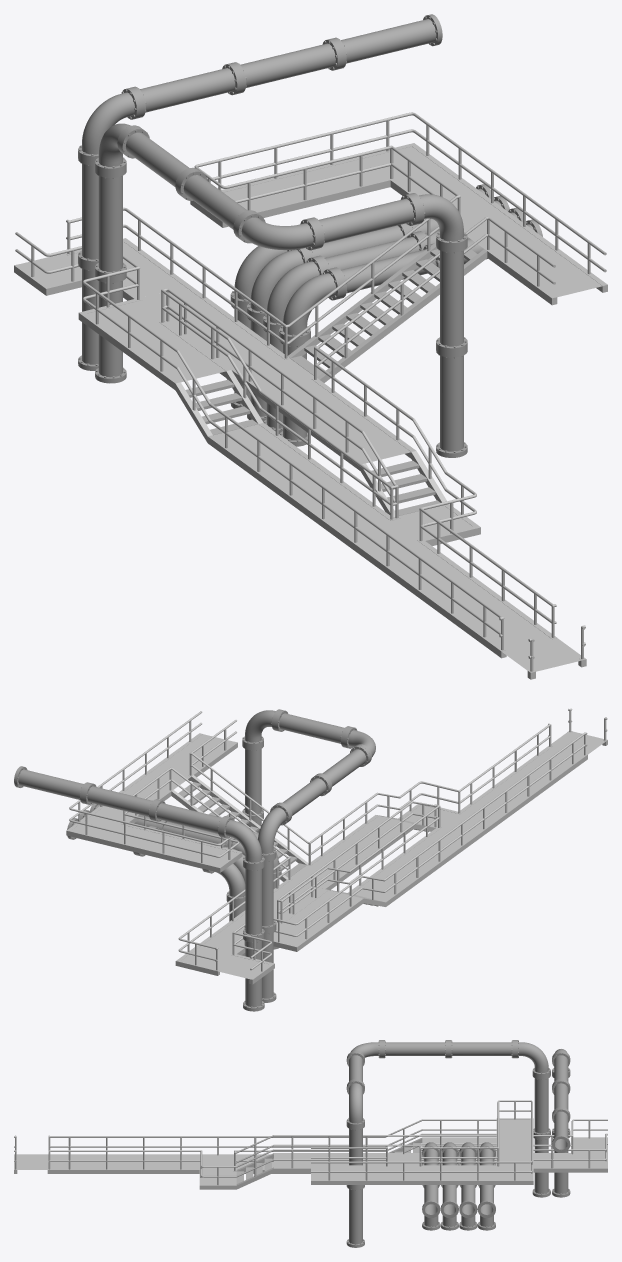
Rendered from Environment_Test.fbx.
3 views of the same model, one above another, from view 1: azimuth 30°, elevation 25°; view 2: azimuth 150°, elevation 25°; view 3: azimuth 270°, elevation 25° (orthographic). The views are drawn at different scales.
Parts seen in each view (by area): view 1: Environment_Test; view 2: Environment_Test; view 3: Environment_Test.
Part boxes in pixels (box(x1,y1,x2,y2)): Environment_Test: box(14, 14, 607, 679); Environment_Test: box(14, 708, 607, 1011); Environment_Test: box(14, 1040, 607, 1247).
Size of the model in its own units: 679 by 479 by 1600.
